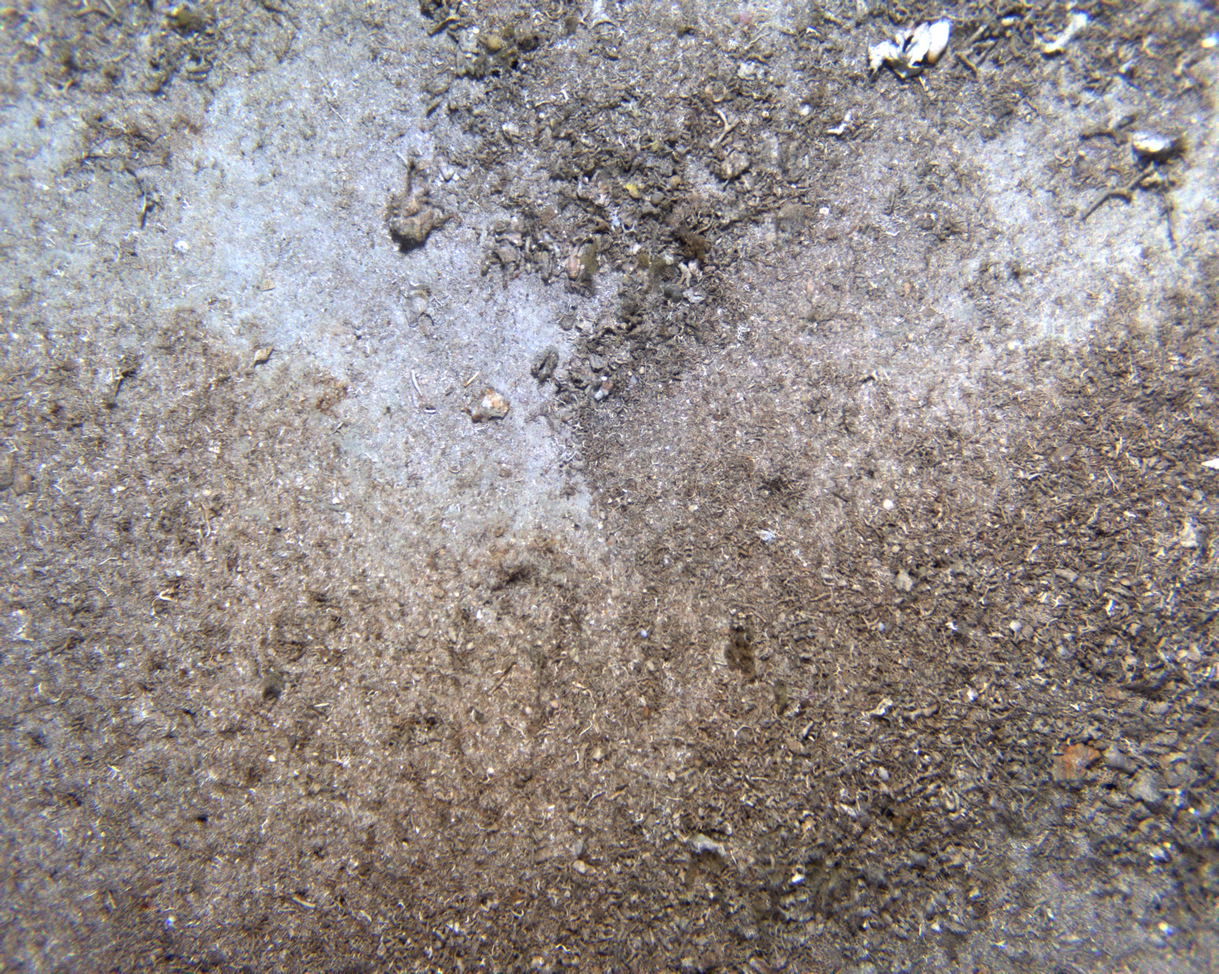Brachionichthyidae: (558, 235, 589, 281)
